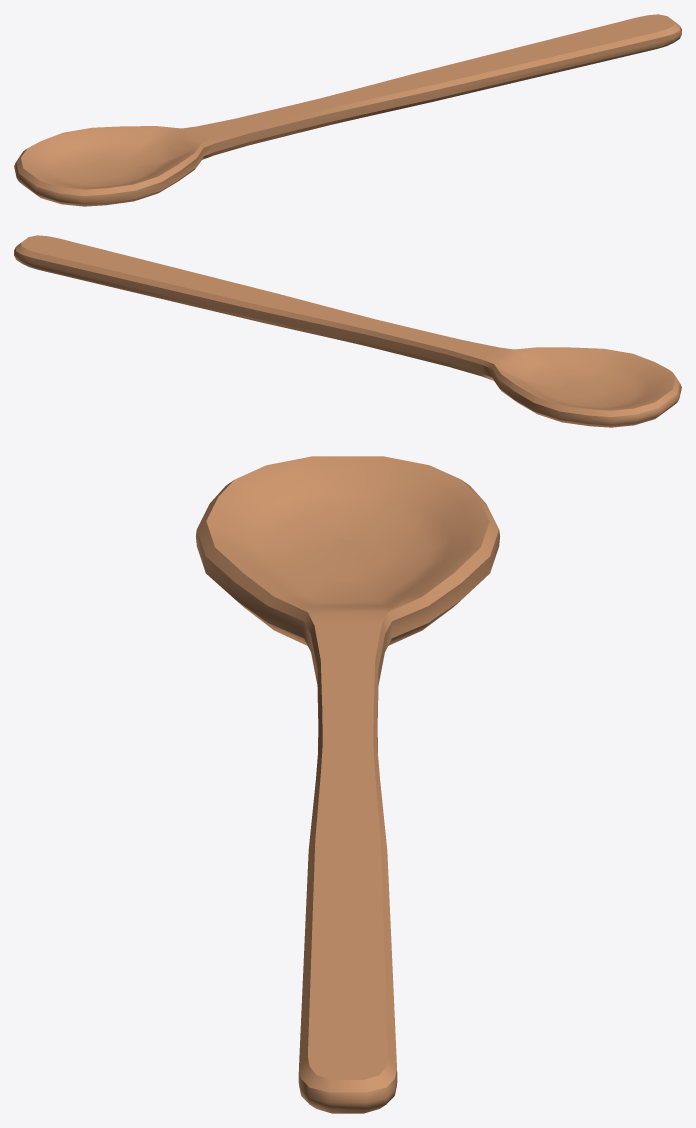
The model's file is spoon.glb.
The picture shows the model from 3 angles, top to bottom: view 1: azimuth 30°, elevation 25°; view 2: azimuth 150°, elevation 25°; view 3: azimuth 270°, elevation 25°; orthographic projection. The views are drawn at different scales.
Parts seen in each view (by area): view 1: pCube1; view 2: pCube1; view 3: pCube1.
Part boxes in pixels (bbox=[...]): pCube1: bbox=[14, 14, 681, 206]; pCube1: bbox=[14, 235, 681, 427]; pCube1: bbox=[196, 456, 499, 1113].
Bounding box in the file's own units: 0.6217 × 0.0272 × 0.1258.
